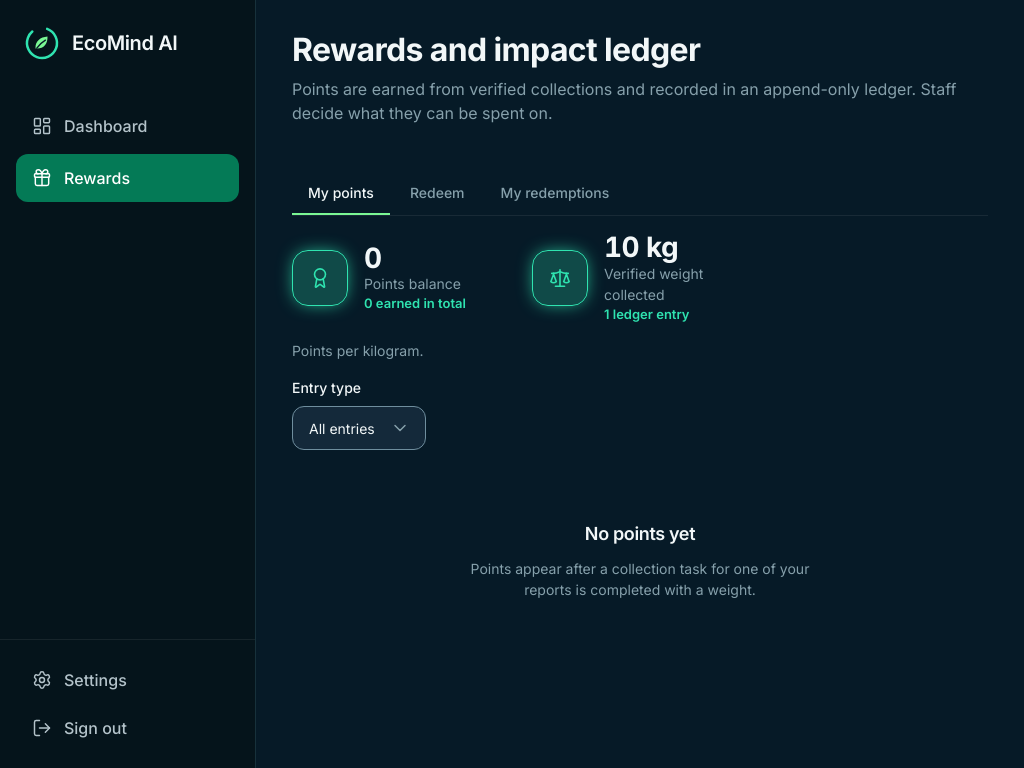
Test case: rewards catalogue (citizen) › shows an honest empty state instead of inventing rewards
Click the tab "Redeem" at coordinates (437, 193), box [394,171,480,215]
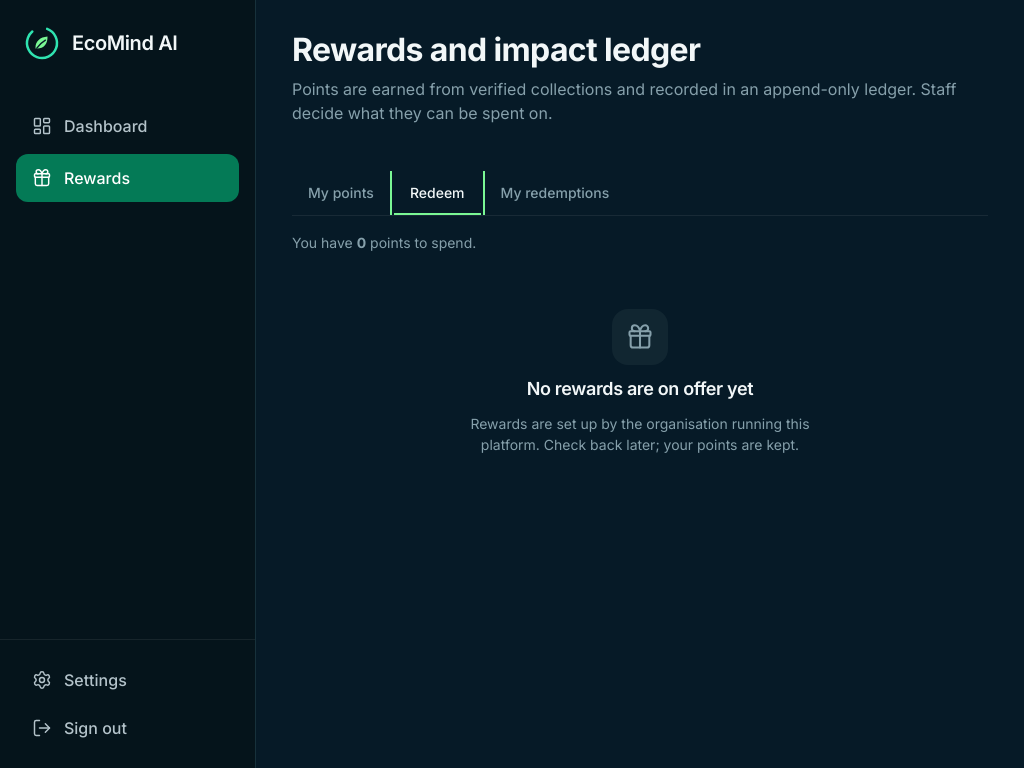
Expected: the heading "No rewards are on offer yet" is shown, [527,377,753,401]
